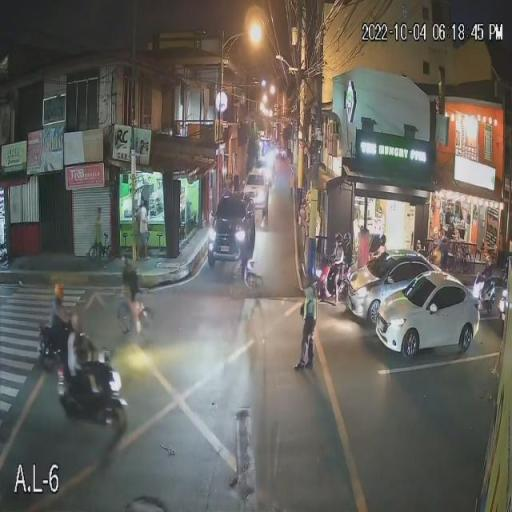helmet: (481, 247, 494, 273), (68, 315, 84, 335), (54, 282, 64, 296), (334, 233, 344, 242)
motorcycle: (58, 332, 128, 438), (39, 318, 82, 384), (316, 256, 350, 307), (470, 262, 497, 321), (496, 275, 511, 323)
rider: (64, 314, 101, 388), (48, 282, 80, 355), (328, 232, 348, 294), (473, 250, 495, 297)
